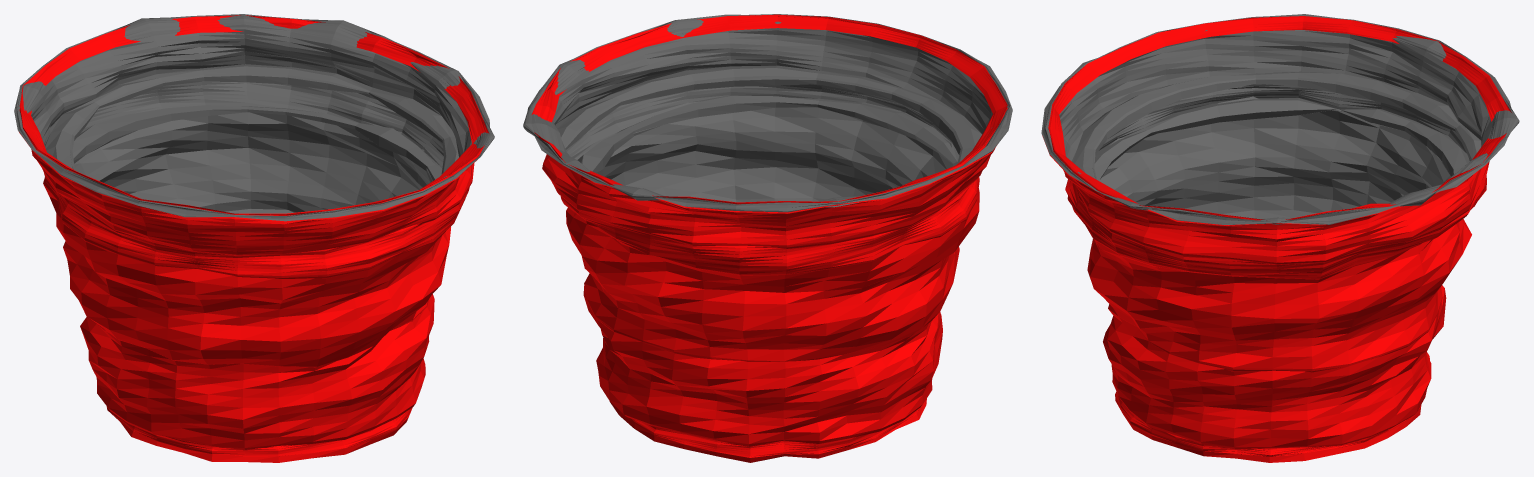
The model's file is crush_medium_0.obj.
3 views of the same model, side by side, from view 1: azimuth 30°, elevation 25°; view 2: azimuth 150°, elevation 25°; view 3: azimuth 270°, elevation 25° (orthographic). The views are drawn at different scales.
Visible parts, largest first — view 1: model; view 2: model; view 3: model.
Part boxes in pixels (<box>): model: <box>14,14,494,462</box>; model: <box>523,14,1012,462</box>; model: <box>1041,14,1519,462</box>.
Size of the model in its own units: 0.0929 by 0.063 by 0.0948.
Materials: 1 (1 with a texture image).
